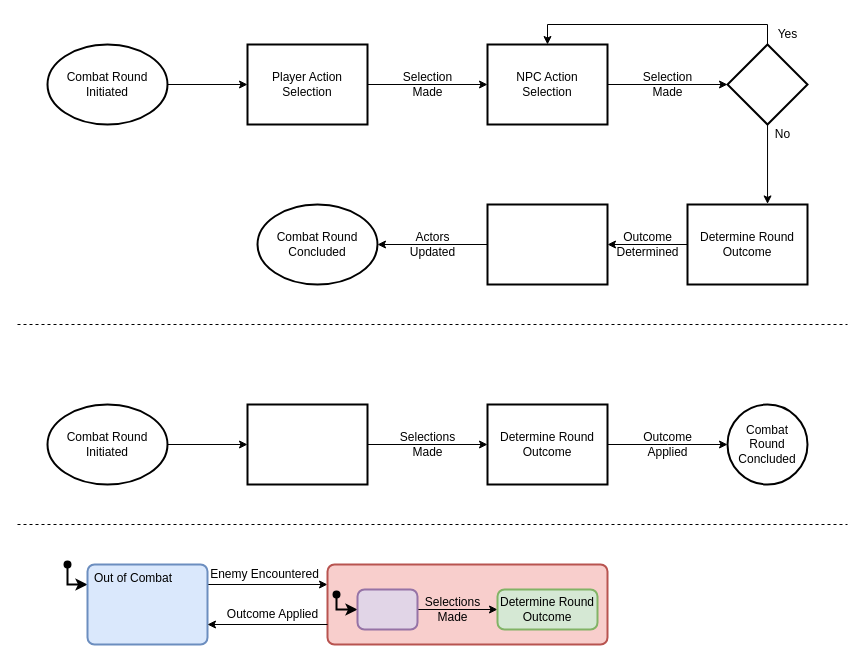
Some shapes in this 866 by 663 pixel diagram are drawn without their labels. Here are the shapes that lost their labels. From the top down, the box of each, then its label:
(726, 43, 808, 125): More NPCs?
(486, 203, 608, 285): Apply Round Outcome to Actors
(246, 403, 368, 485): Player/NPC Action Selection
(356, 588, 418, 630): Action Selection
(326, 563, 608, 645): In Combat
